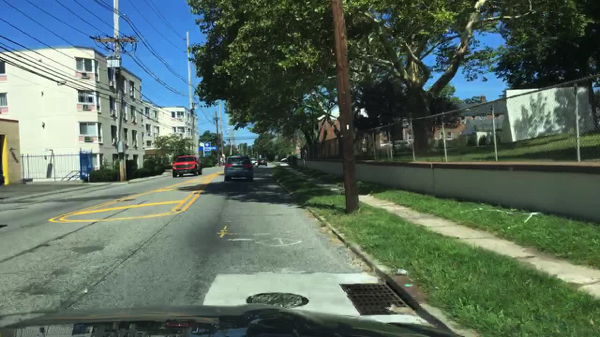car: (223, 155, 256, 183), (380, 140, 414, 154), (255, 157, 268, 167), (280, 155, 294, 163), (219, 156, 227, 167), (248, 158, 257, 167)
traffic sign: (204, 142, 210, 156)
truck: (172, 154, 203, 177)
